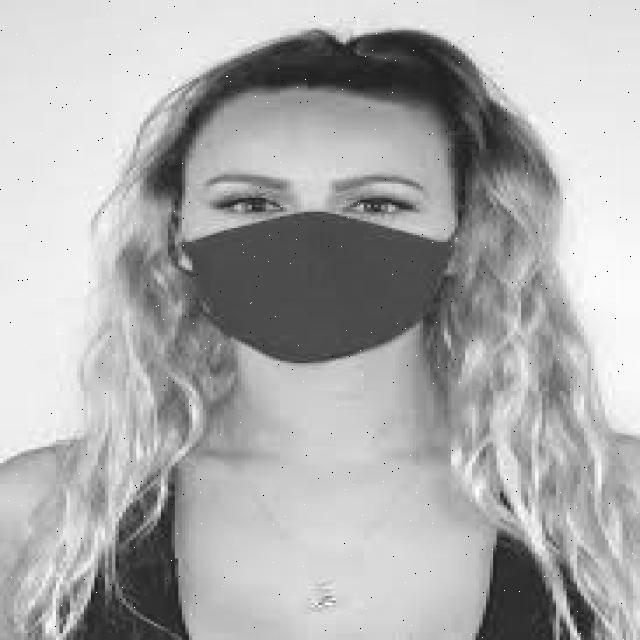fake: (180, 211, 465, 371)
real: (179, 91, 465, 378)
